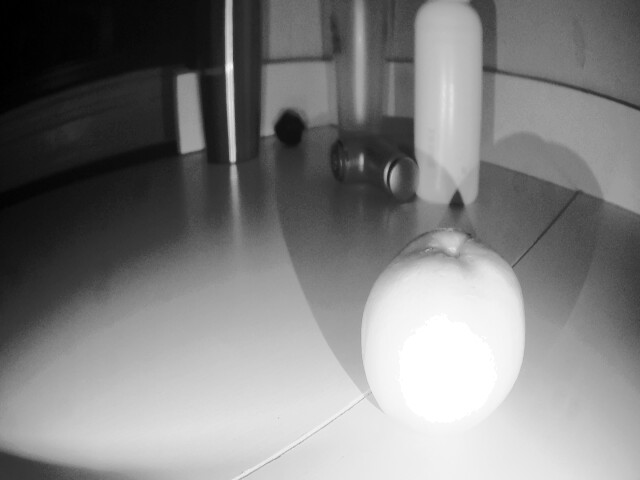silver: (270, 102, 317, 166)
